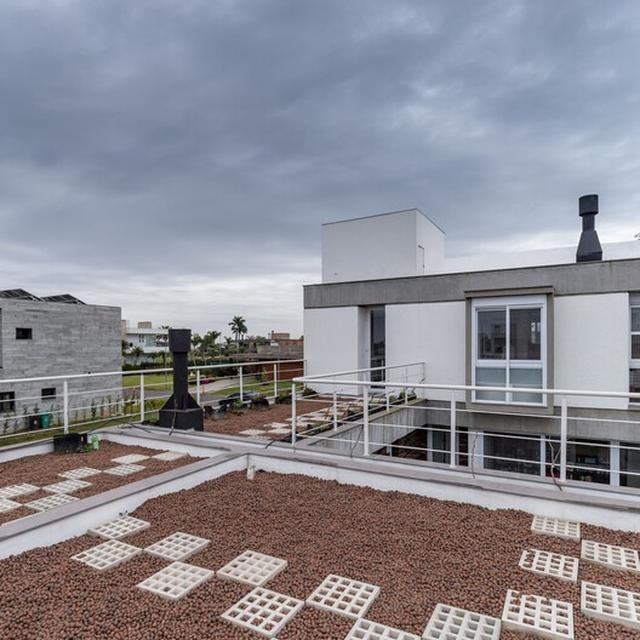building: (304, 210, 640, 491), (0, 283, 126, 429)
